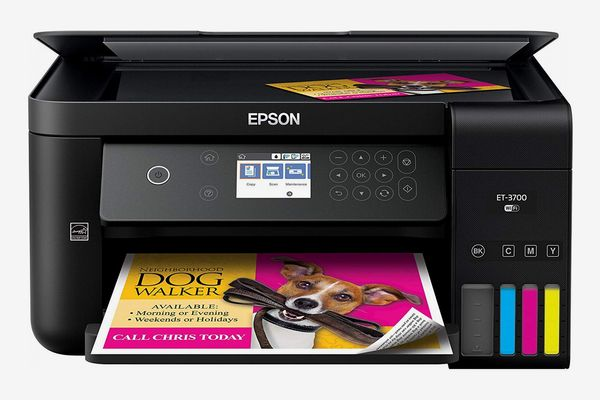printer: (23, 21, 574, 374)
